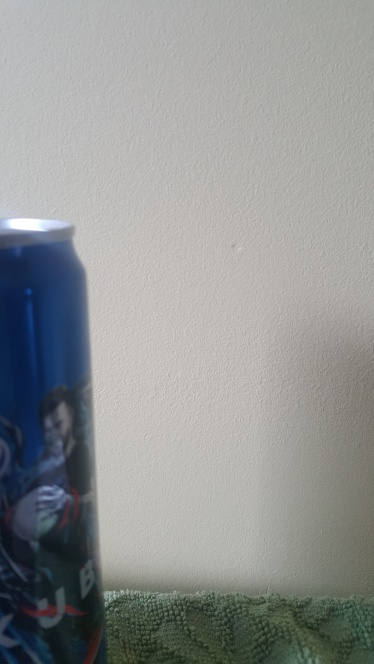pepsi: (1, 196, 125, 664)
